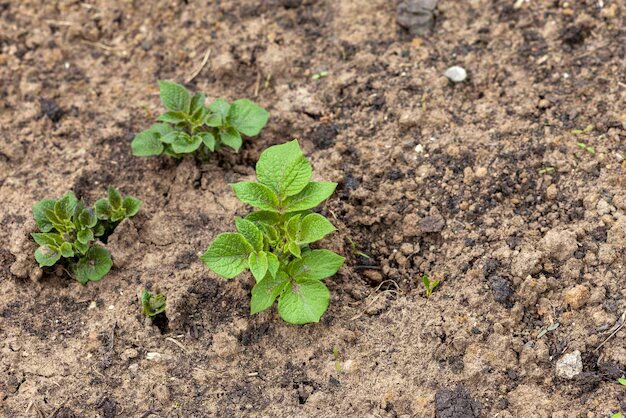potato_plant: (201, 140, 342, 324), (128, 77, 271, 160), (29, 187, 143, 282)
